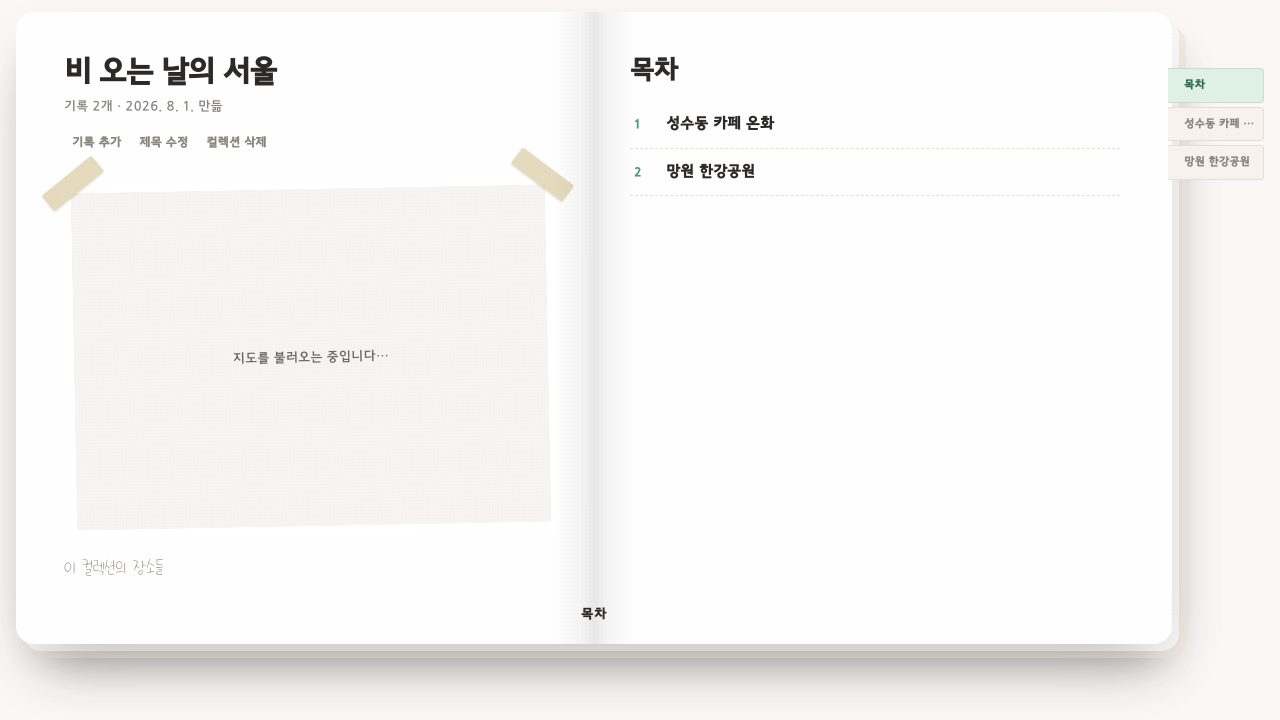
Test case: CollectionDetailView — 펼침면 소유자 배치(418) › 소유자 도구와 이 장 뜯어내기가 모두 있다(기능 무손실)
Click the button "성수동 카페 온화": coordinates (1216, 124) [1168,106,1264,141]
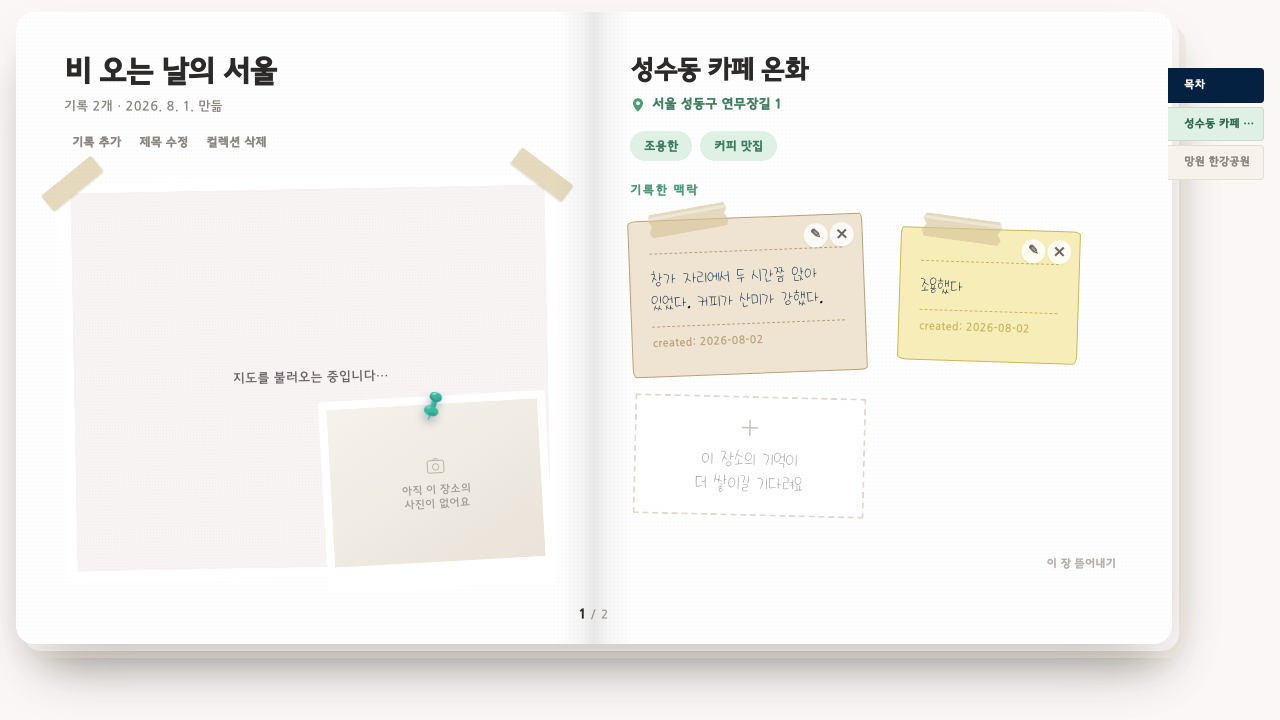
Expected: the text "이 장 뜯어내기" is shown, [1038,552,1124,576]
Expected: the number of buttons named "맥락 수정" is 2, [803,222,828,247]; [1021,239,1046,263]
Expected: the number of buttons named "맥락 삭제" is 2, [829,222,854,246]; [1047,239,1072,264]
